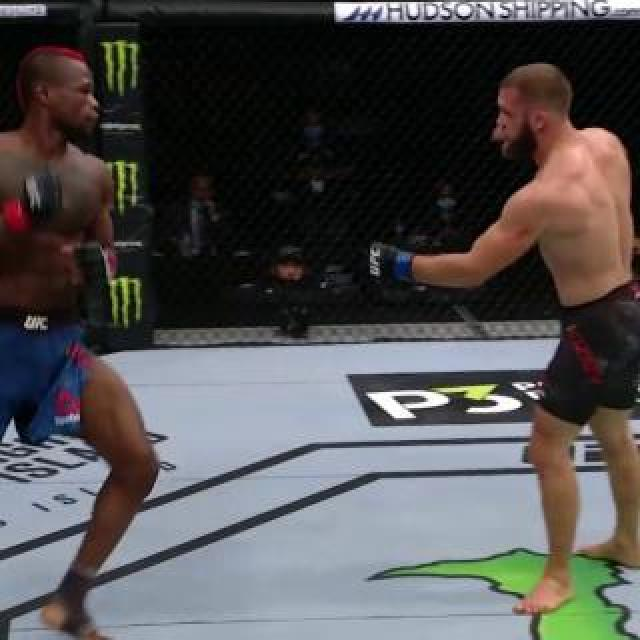fight: (2, 35, 638, 623)
